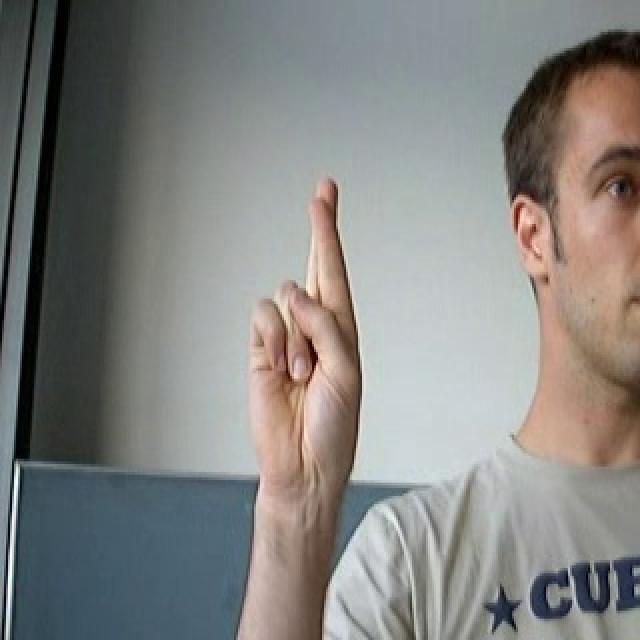R: (233, 161, 377, 497)
